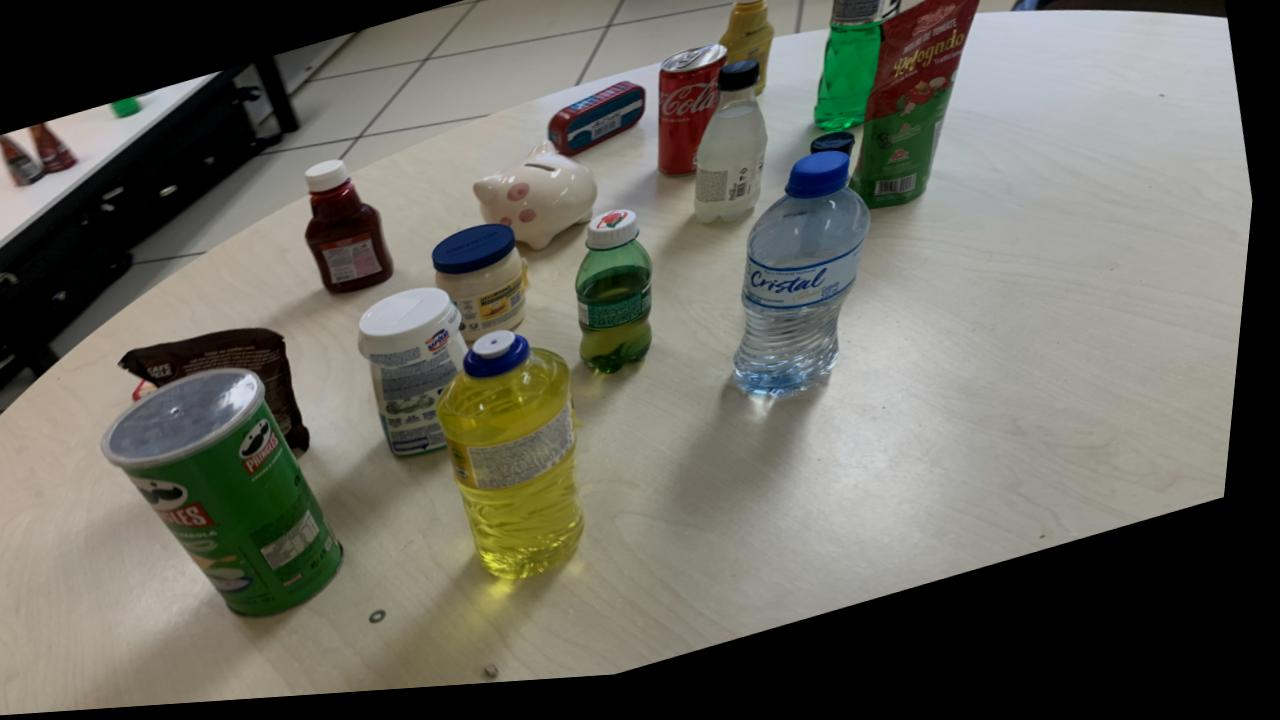Cleaner-Cleanup_Items: (365, 293, 475, 462)
Coffee-Pantry_Items: (127, 331, 319, 455)
Coke-Drinks: (660, 53, 729, 185)
Detergent-Cleanup_Items: (445, 337, 596, 586), (816, 0, 906, 143)
English_Sauce-Pantry_Items: (814, 143, 859, 167)
Guarana-Drinks: (581, 218, 660, 382)
Ketchup-Pantry_Items: (308, 164, 400, 298)
Mayonnaise-Pantry_Items: (437, 230, 534, 350)
Mustard-Pantry_Items: (722, 0, 776, 105)
Pig_Safe-Miscellaneous: (478, 148, 603, 258)
Pringles-Snacks: (109, 371, 355, 620)
Soap-Cleanup_Items: (140, 381, 165, 403)
Soda-Drinks: (698, 72, 771, 233)
Tomato_Sauce-Pantry_Items: (856, 0, 984, 221)
Tuna_Can-Pantry_Items: (550, 89, 648, 164)
Water_Bottle-Drinks: (741, 162, 876, 408)
